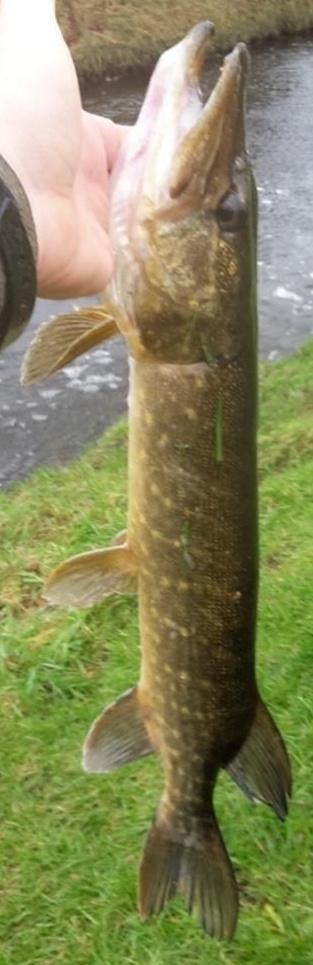Esox lucius: (20, 20, 293, 945)
